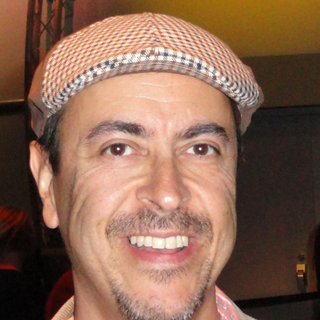eye: (97, 138, 144, 163), (178, 139, 224, 163)
